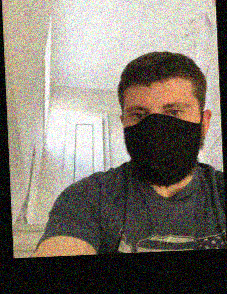with_mask: (122, 92, 203, 188)
